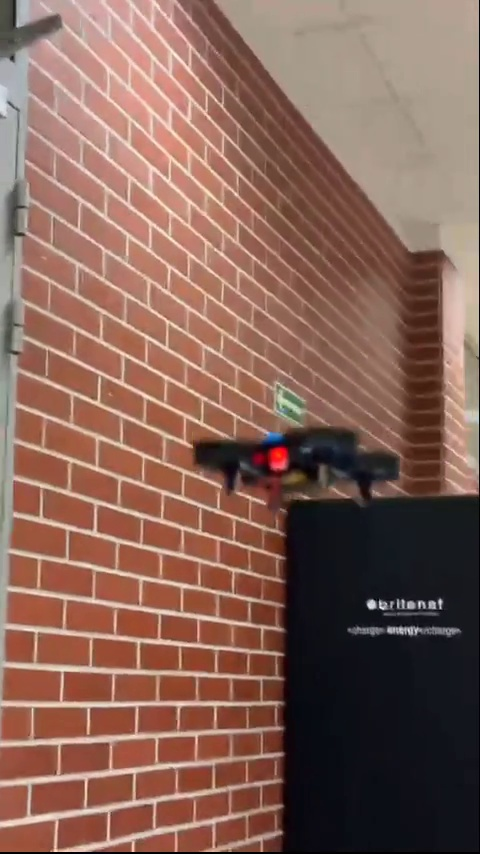drone: (200, 424, 402, 511)
